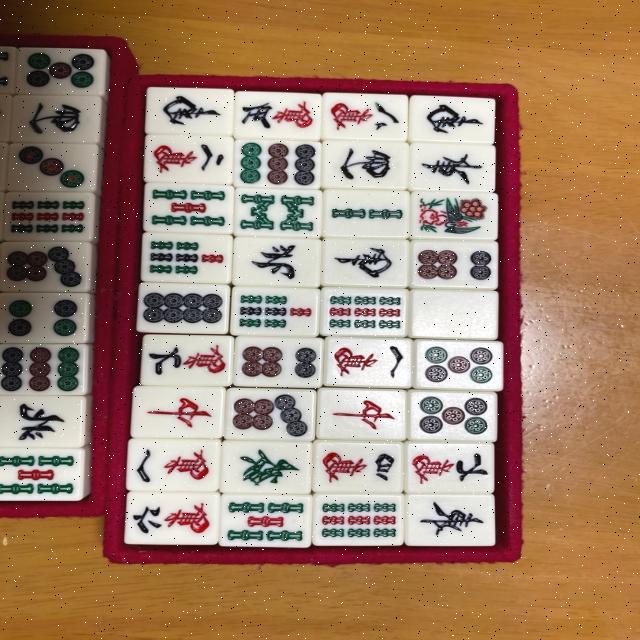bamboos_1: (406, 189, 504, 242)
bamboos_2: (321, 186, 418, 239)
bamboos_5: (137, 181, 235, 234), (220, 495, 318, 548)
bamboos_7: (140, 232, 238, 286), (225, 284, 323, 336)
bamboos_8: (230, 187, 328, 240)
bamboos_9: (311, 494, 409, 548), (316, 285, 414, 338)
characters_1: (318, 337, 416, 390), (127, 440, 225, 492)
characters_2: (140, 133, 238, 186)
characters_4: (310, 441, 408, 494)
characters_5: (228, 89, 326, 142)
characters_6: (122, 493, 220, 546)
characters_7: (136, 334, 235, 387), (402, 442, 500, 495)
characters_8: (319, 92, 417, 144)
circles_5: (402, 391, 500, 444), (409, 339, 507, 392)
circles_6: (226, 336, 324, 389), (406, 238, 504, 290)
circles_7: (222, 390, 320, 442)
circles_8: (137, 282, 235, 335)
circles_9: (230, 136, 328, 190)
east: (404, 141, 502, 194), (402, 494, 499, 546)
green: (218, 444, 316, 496)
north: (229, 235, 327, 288)
red: (129, 386, 227, 439), (312, 388, 410, 441)
south: (404, 96, 502, 150), (142, 85, 240, 138), (316, 237, 414, 290)
west: (316, 139, 414, 192)
white: (404, 288, 502, 342)
